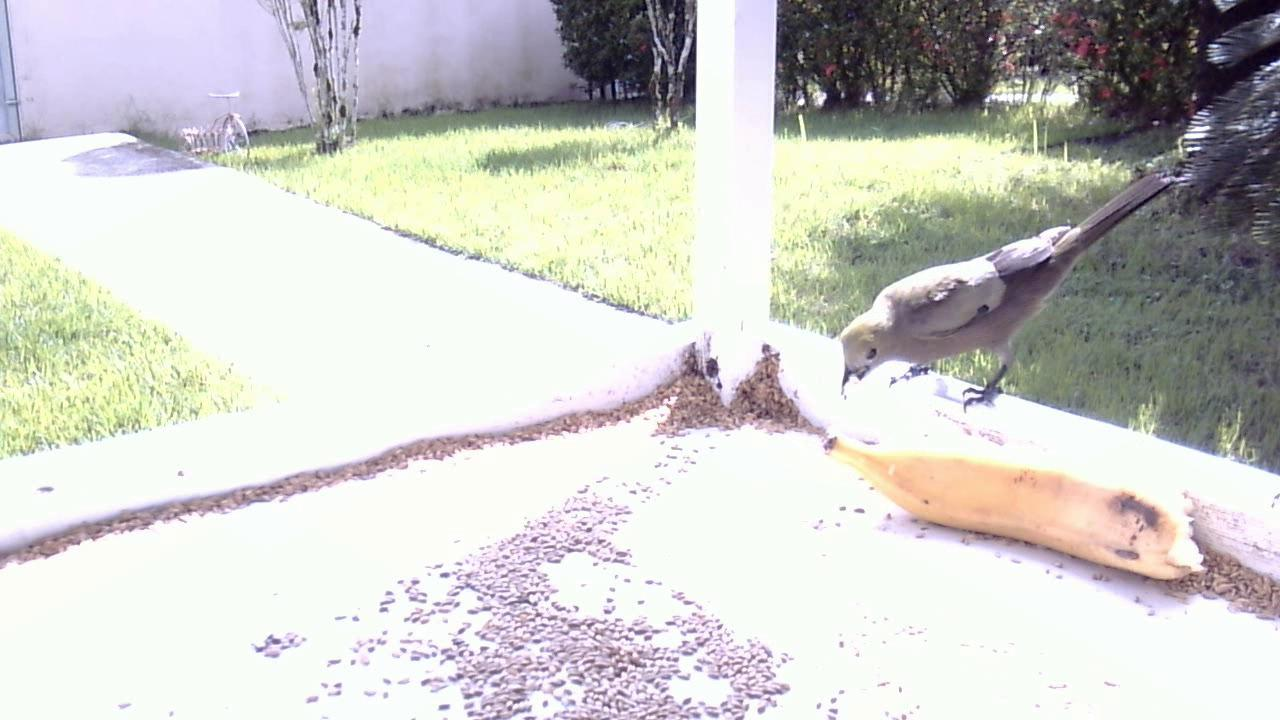sanhaco_do_coqueiro: (829, 157, 1193, 442)
